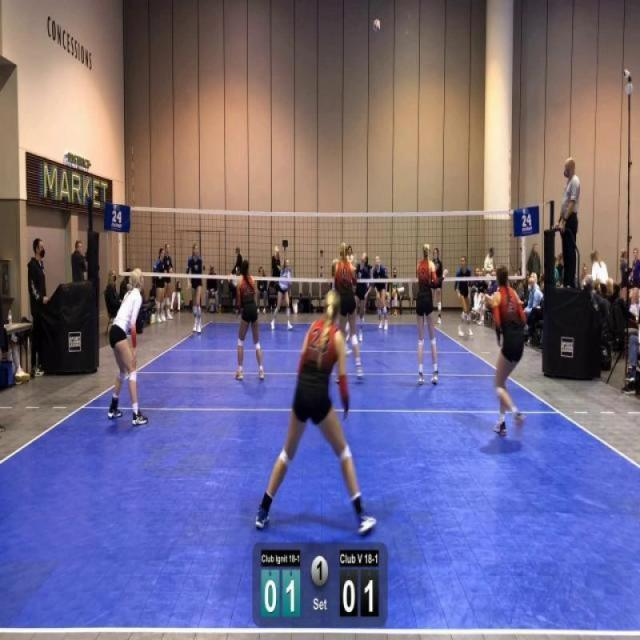volleyball: (373, 17, 381, 34)
